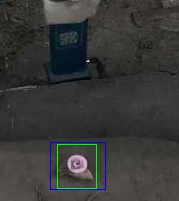text: (57, 144, 96, 188)
